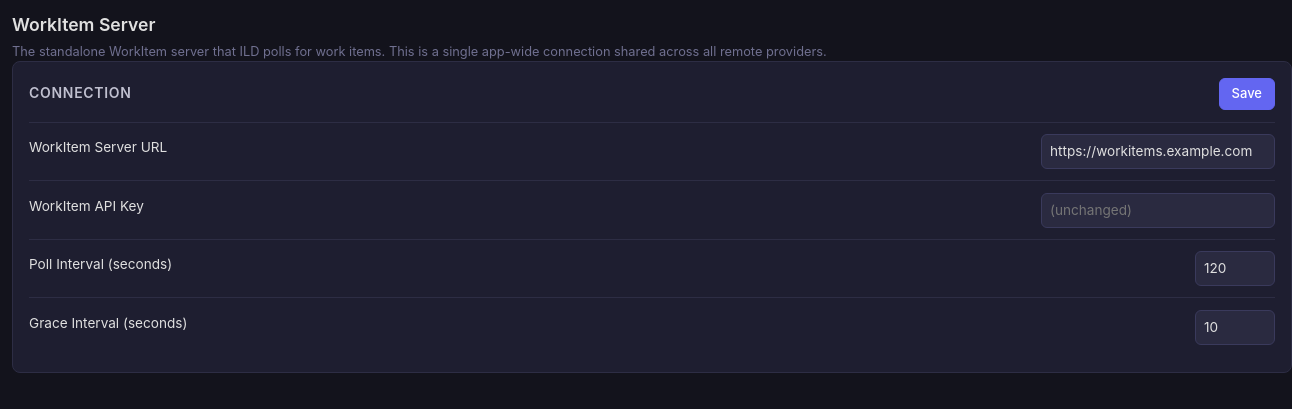
it: WorkItemServerSettings saving › on failure (an Error) shows the error, keeps the entered values and re-enables Save
Replace the text in the field labelled "WorkItem Server URL" with "https://typed.example.com" at (1158, 152), box [1041,134,1275,169]
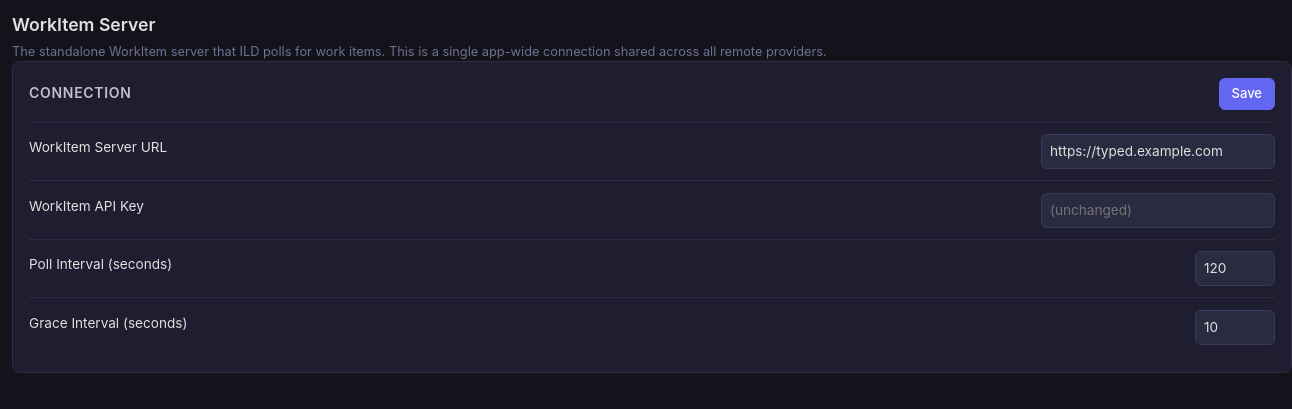
Type "typed-key" into the password field labelled "WorkItem API Key".
click(1158, 210); type("typed-key")  # box [1041,192,1275,228]
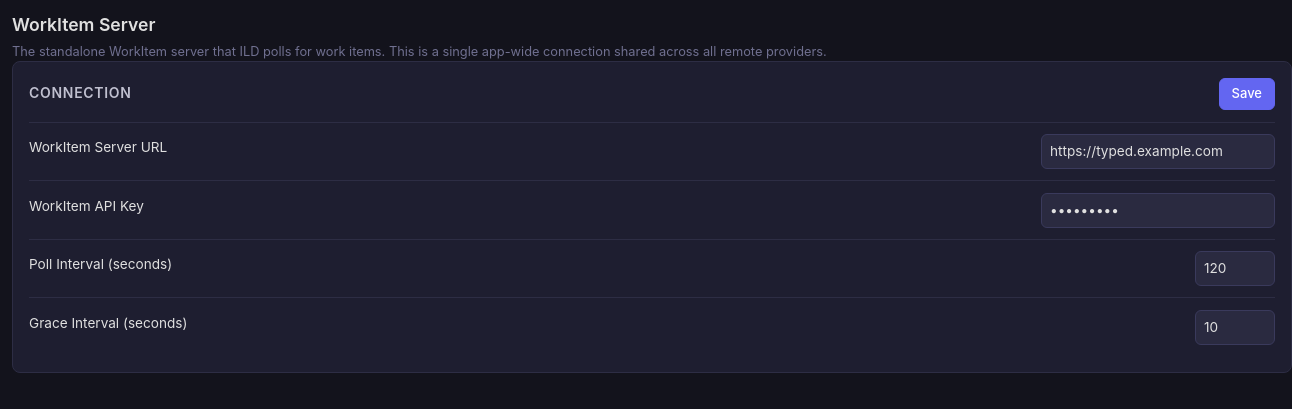
Replace the text in the number field labelled "Poll Interval (seconds)" with "33" at (1235, 269), box [1195,251,1275,286]
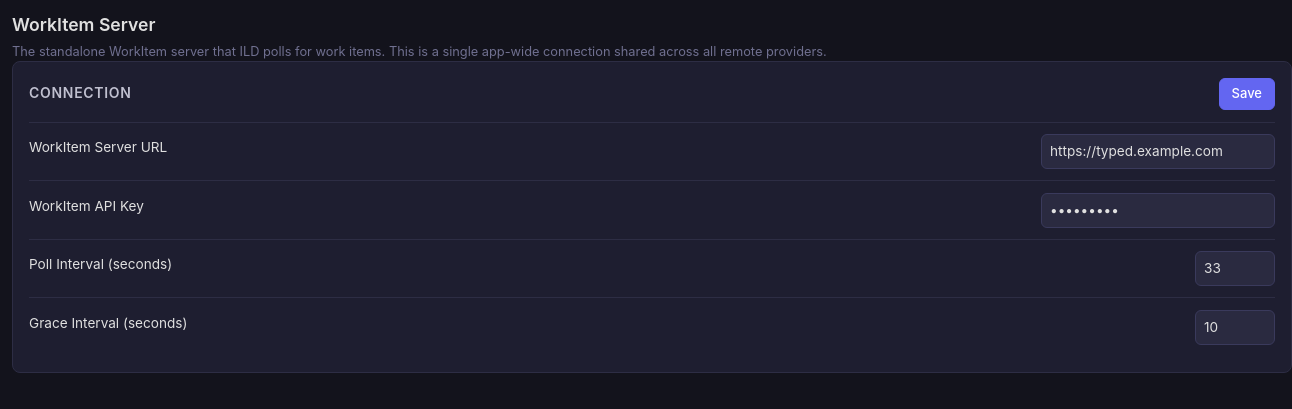
Replace the text in the number field labelled "Grace Interval (seconds)" with "4" at (1235, 327), box [1195,310,1275,345]
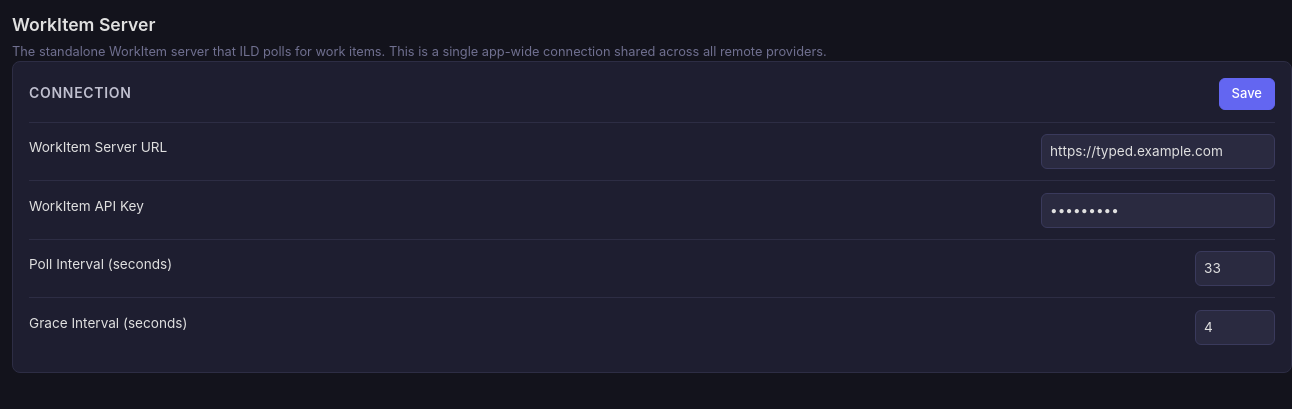
Click the button "Save".
click(1247, 94)  # box [1219,78,1275,110]
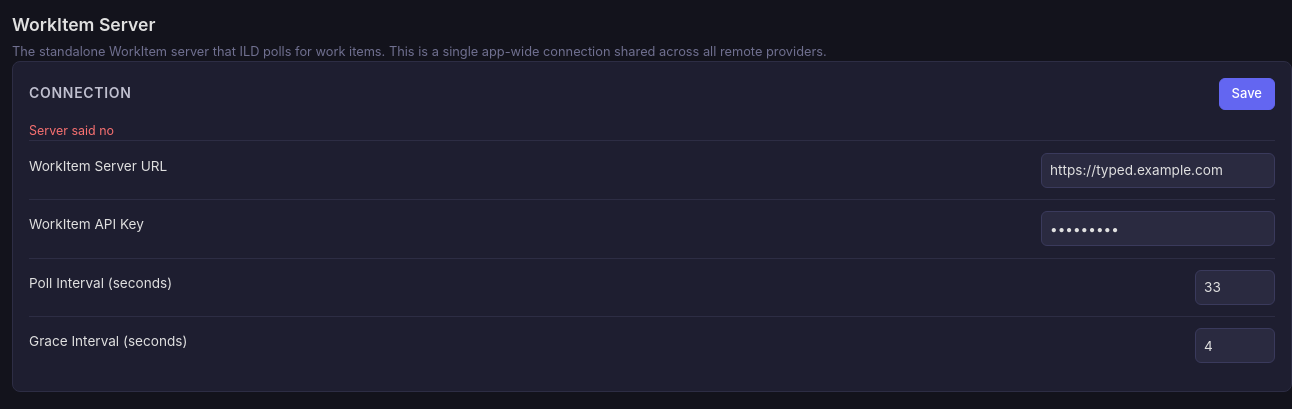
Now the text "Server said no" is shown, box [29,123,114,138]
